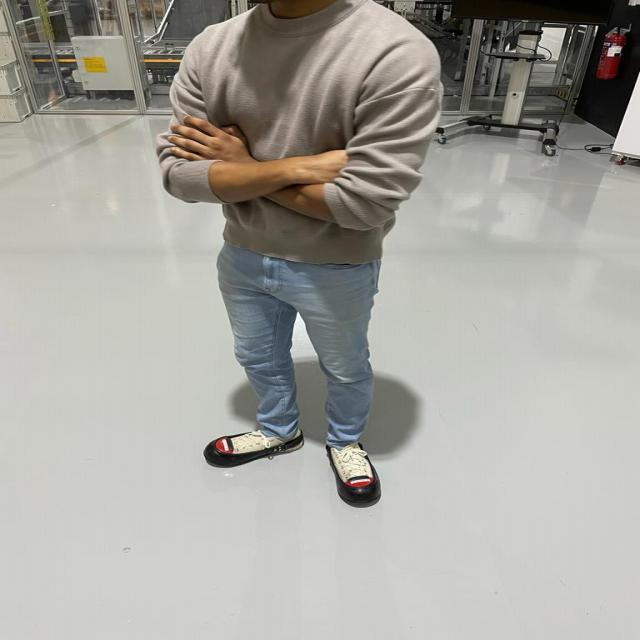shoes: (314, 439, 386, 510), (203, 423, 305, 466)
